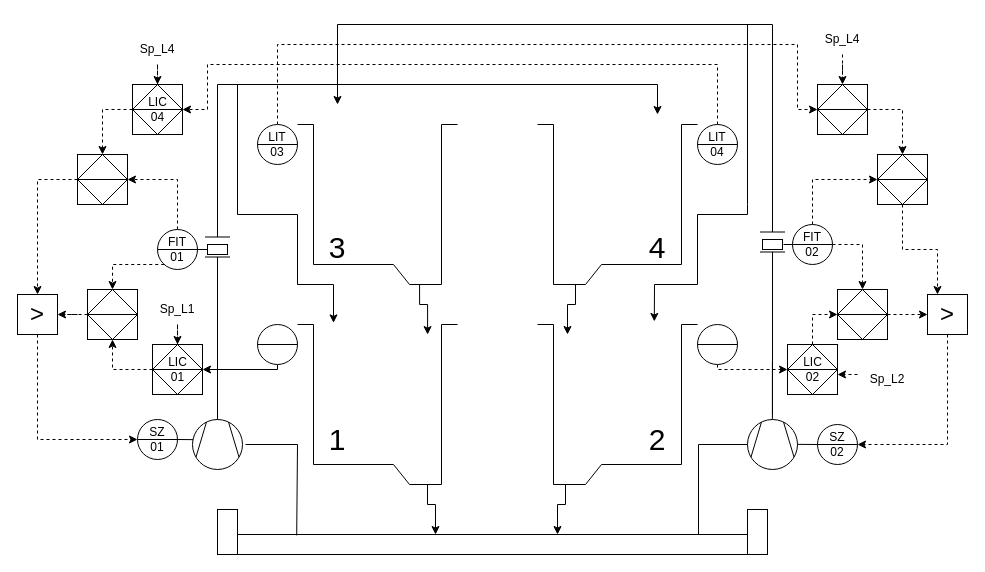
This 985x572 diagram has some shape labels left out. Here are the shapes that lost their labels. From the top down, the box of each, then its label:
(816, 84, 868, 134): LIC 03
(76, 154, 128, 204): FIC 04
(876, 154, 928, 204): FIC 03
(86, 288, 138, 340): FIC 01
(836, 288, 888, 340): FIC 02
(256, 324, 298, 364): LIT 01
(696, 324, 738, 364): LIT 02
